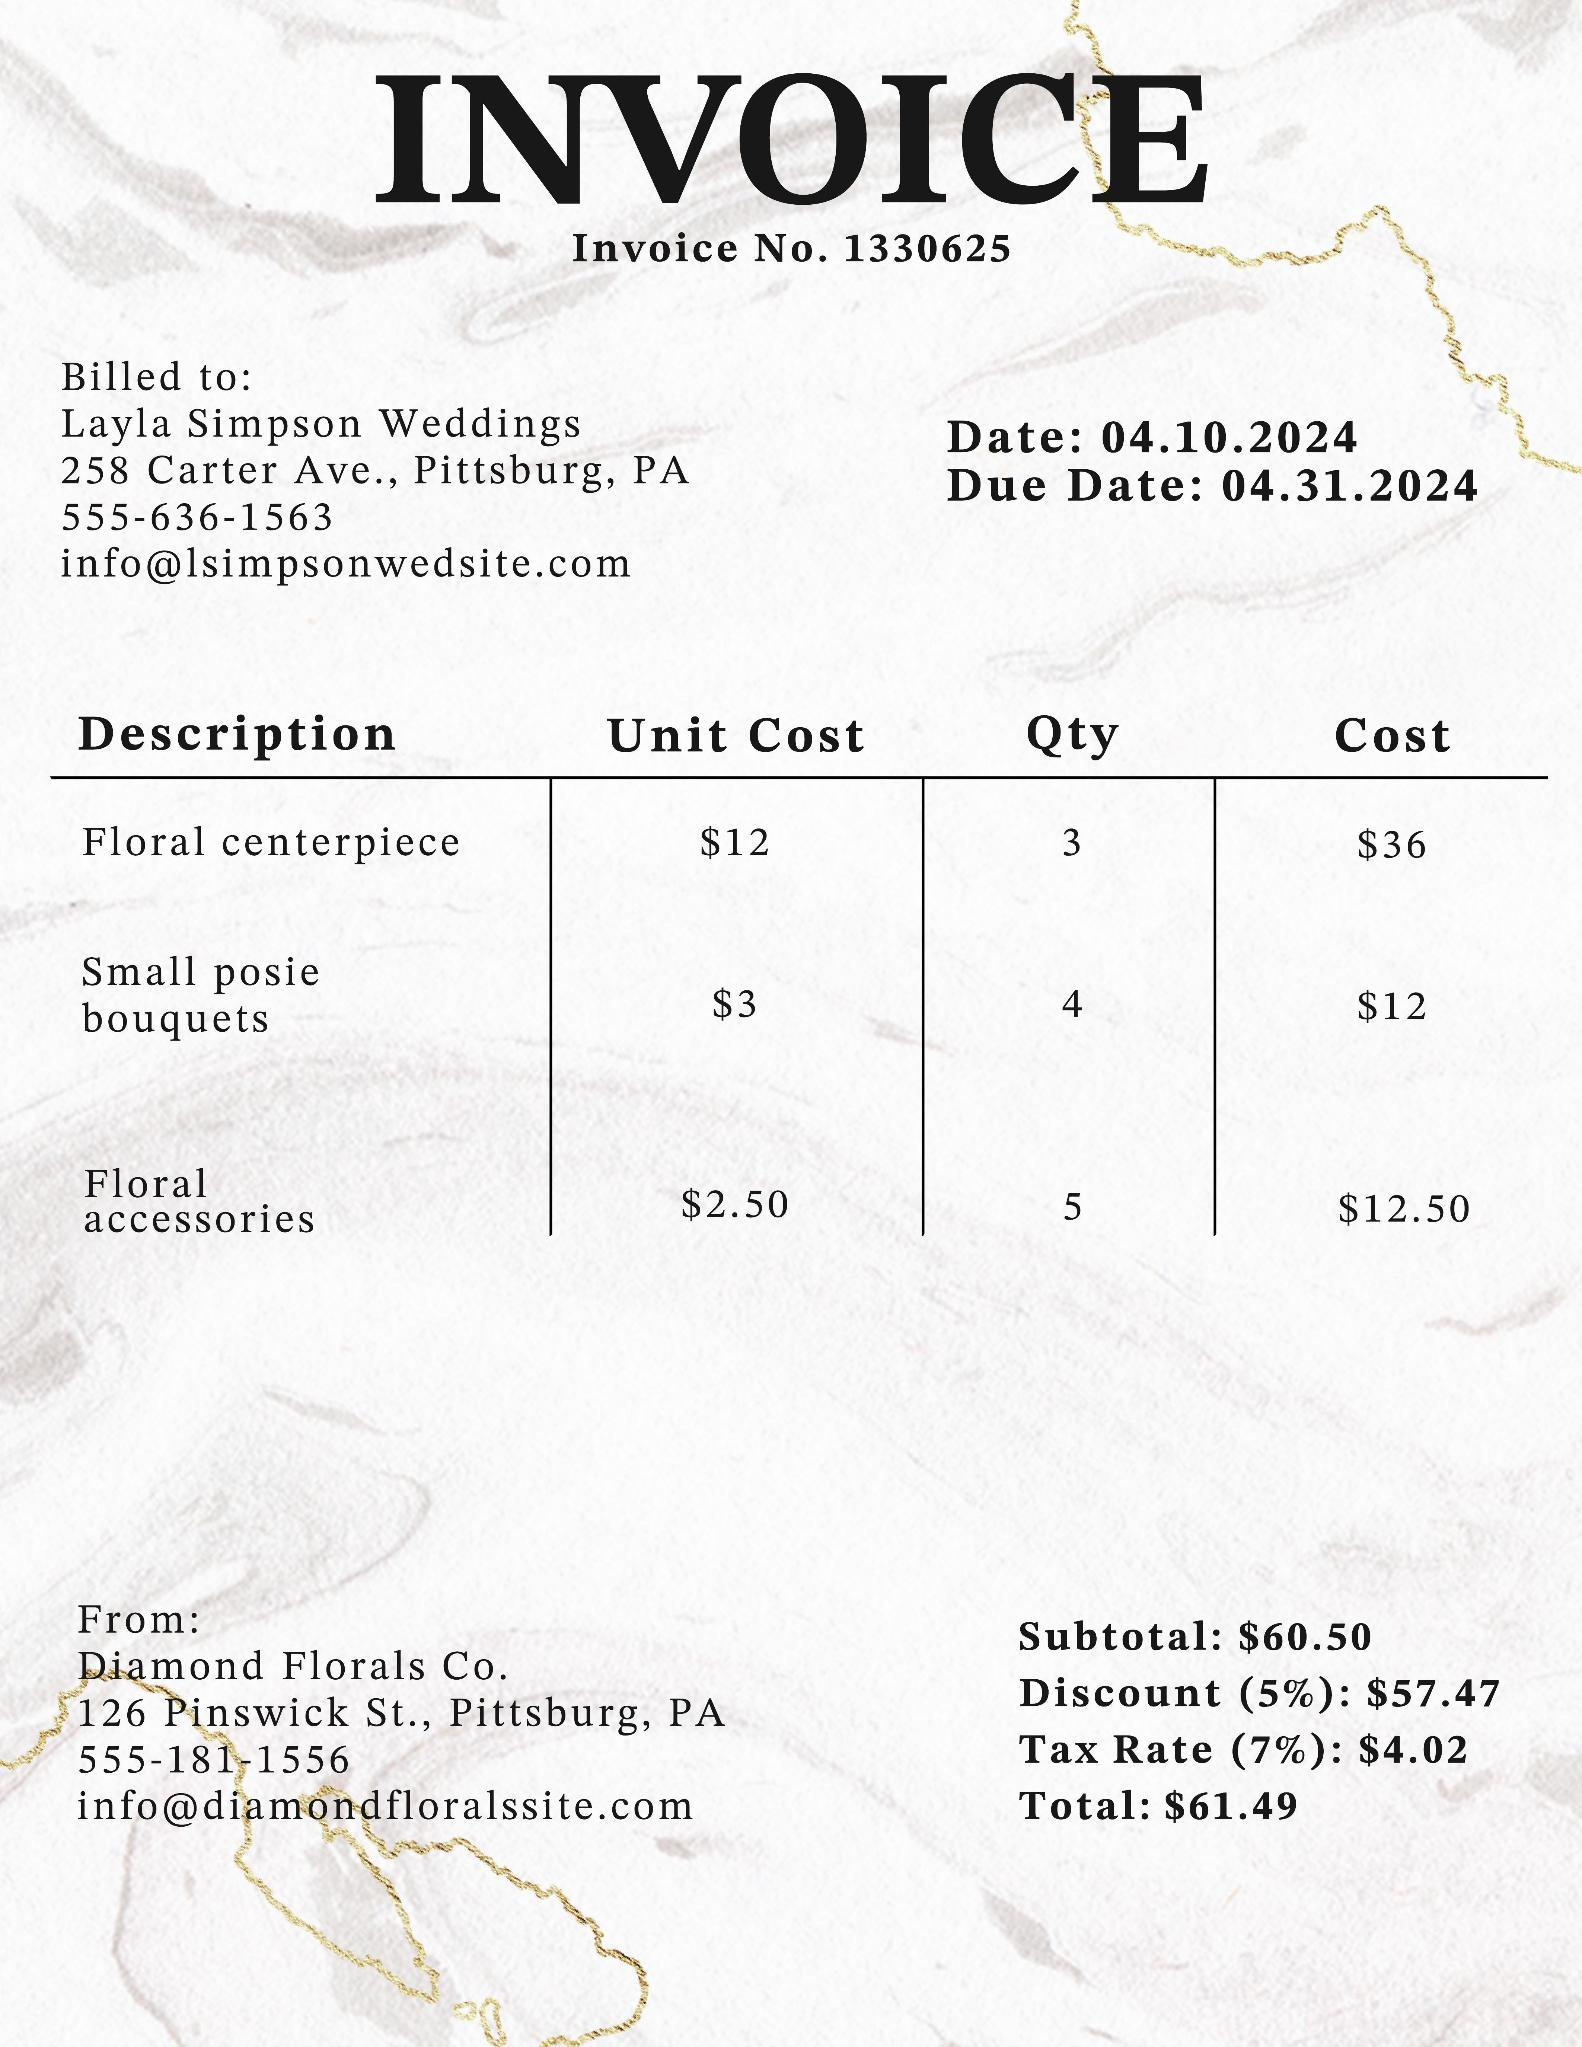ROI: (56, 701, 1550, 1261), (56, 1588, 738, 1868), (53, 344, 716, 595), (344, 56, 1211, 213), (1017, 1623, 1502, 1838), (949, 415, 1481, 512), (552, 228, 1030, 284)
